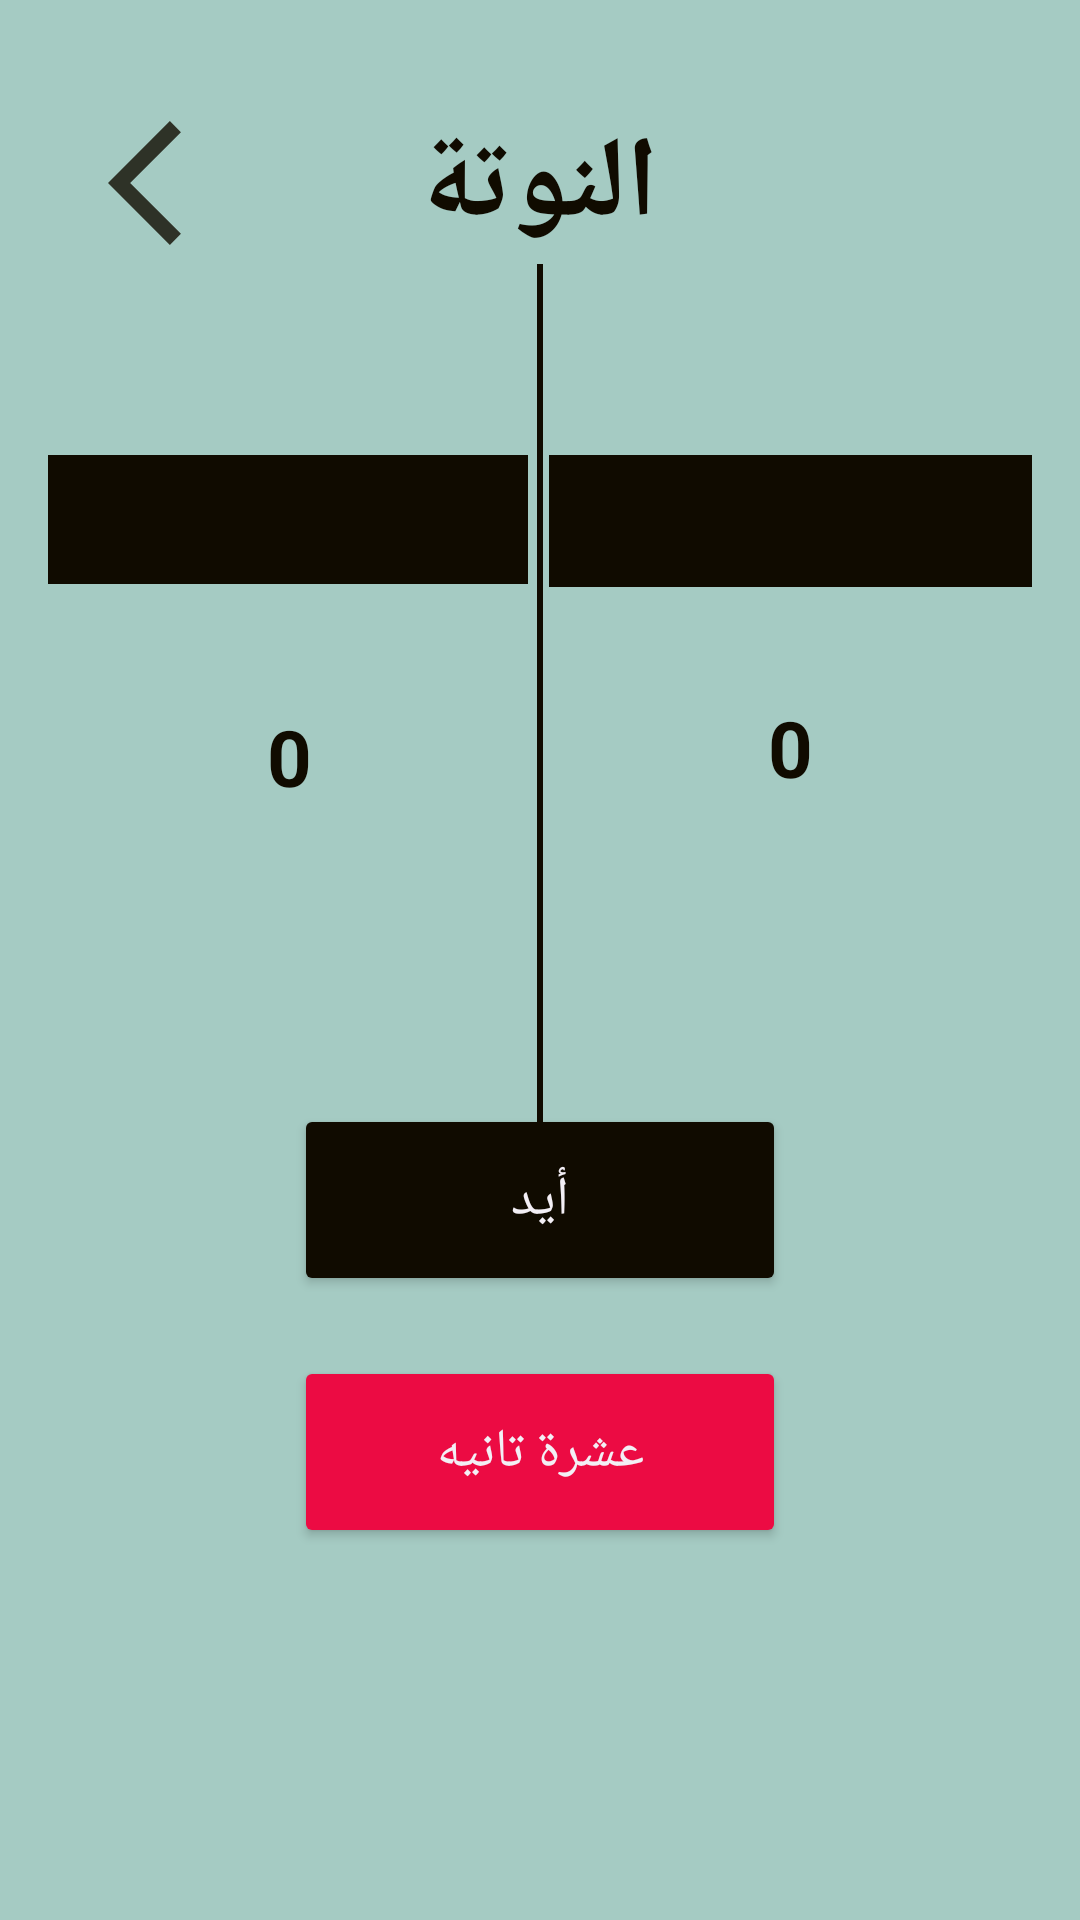

Icons on this 1080*1920 Android screen, each with the point to tap as point (x, y):
back: point (144, 183)
